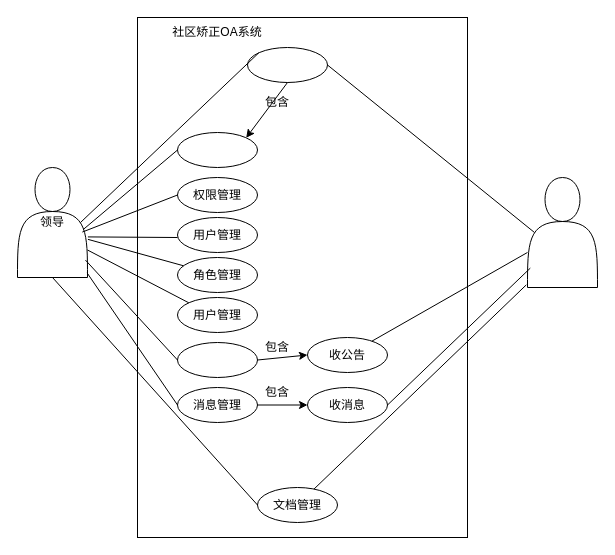
The diagram is 615 pixels wide and 555 high, and some of its shapes have lost their labels. Each missing label, with the centre of its shape:
"公告管理" goes at (217,360).
"发文审批" goes at (217,150).
"收发文管理" goes at (287,64).
"普通职员" goes at (562,232).
